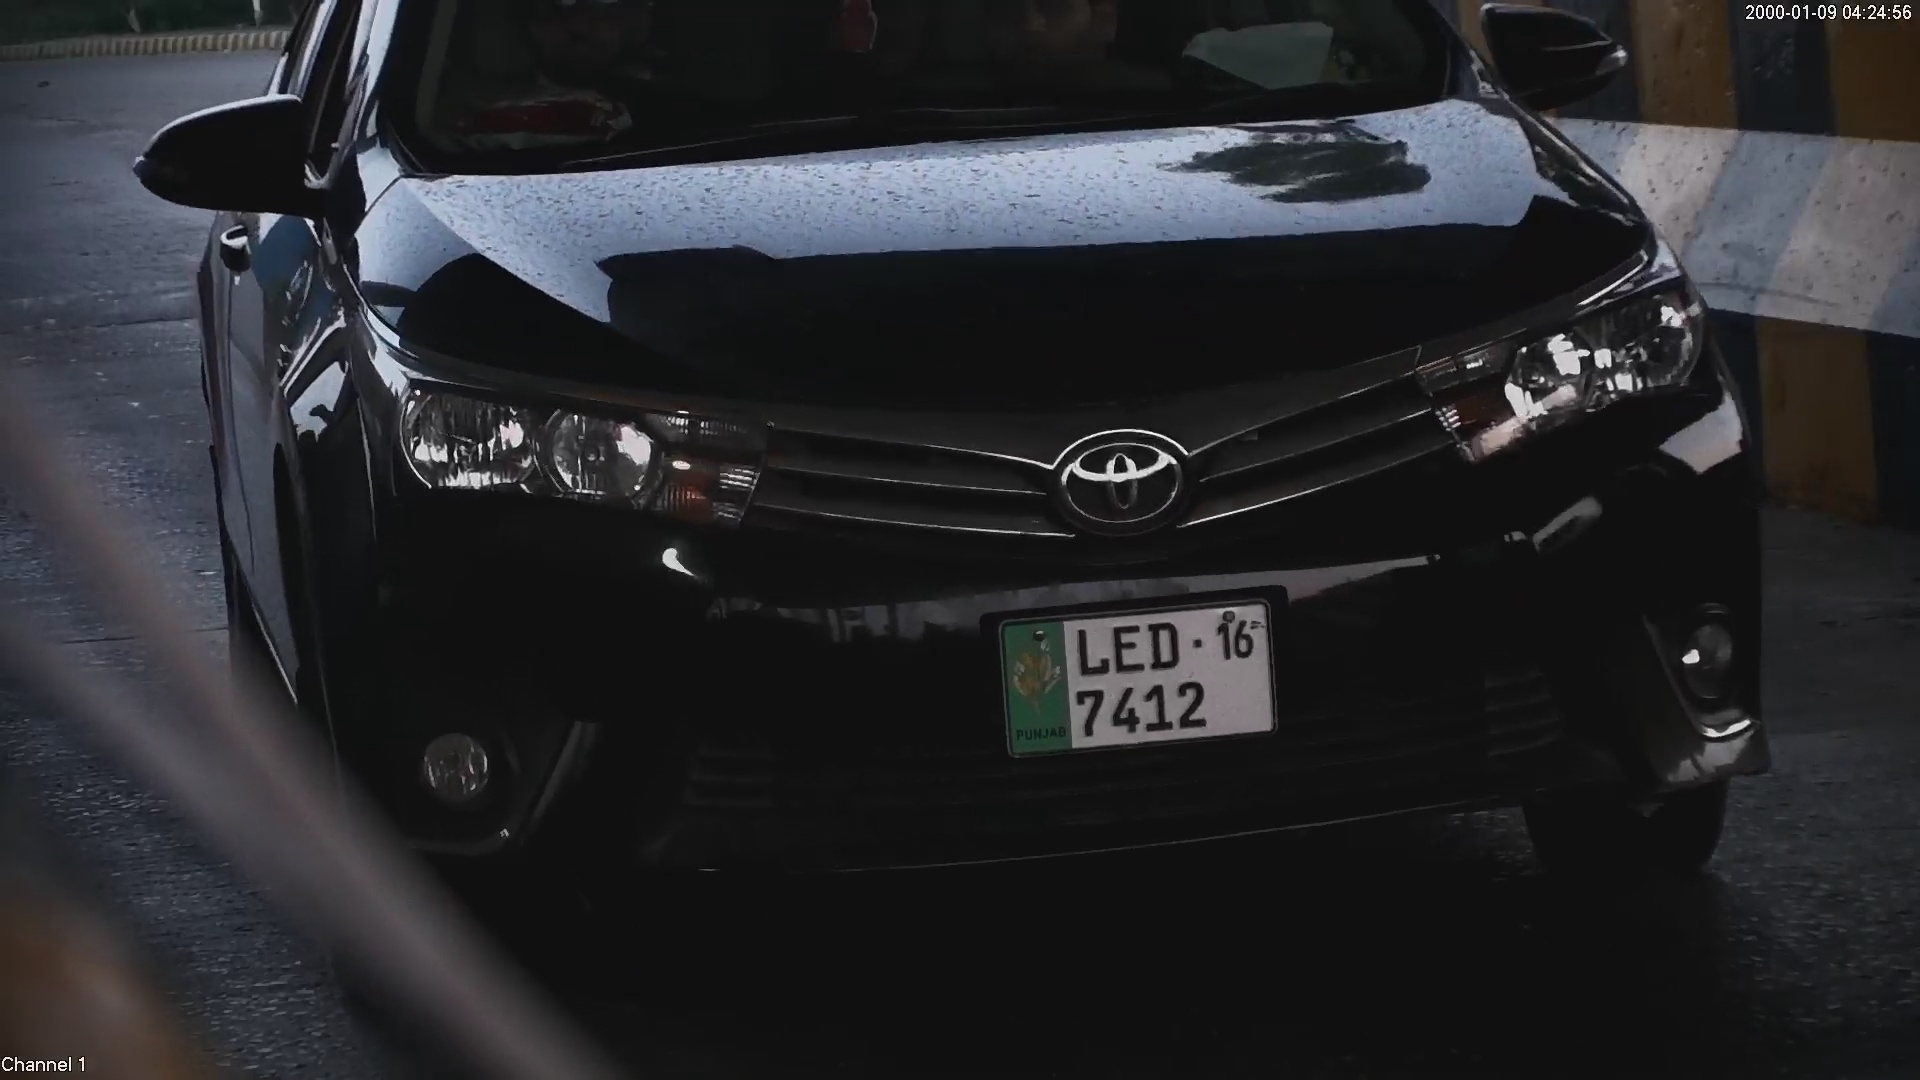Number_Plate: (987, 596, 1289, 759)
Undefined: (384, 388, 739, 525), (1443, 275, 1710, 423), (1037, 420, 1197, 538)
